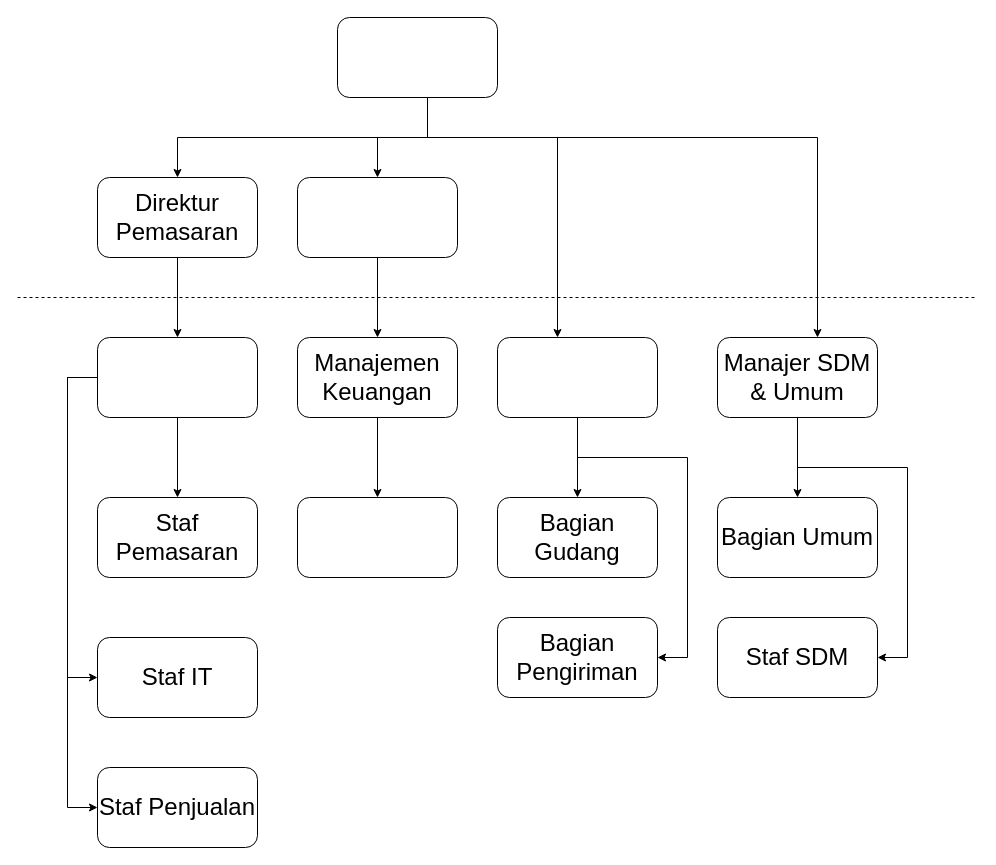
This 996x865 diagram has some shape labels left out. Each missing label, with the box of its shape:
Direktur Keuangan: (296, 176, 458, 258)
Direktur Utama: (336, 16, 498, 98)
Manajemen Operational: (496, 336, 658, 418)
Manajer Pemasaran: (96, 336, 258, 418)
Staf Keuangan: (296, 496, 458, 578)
